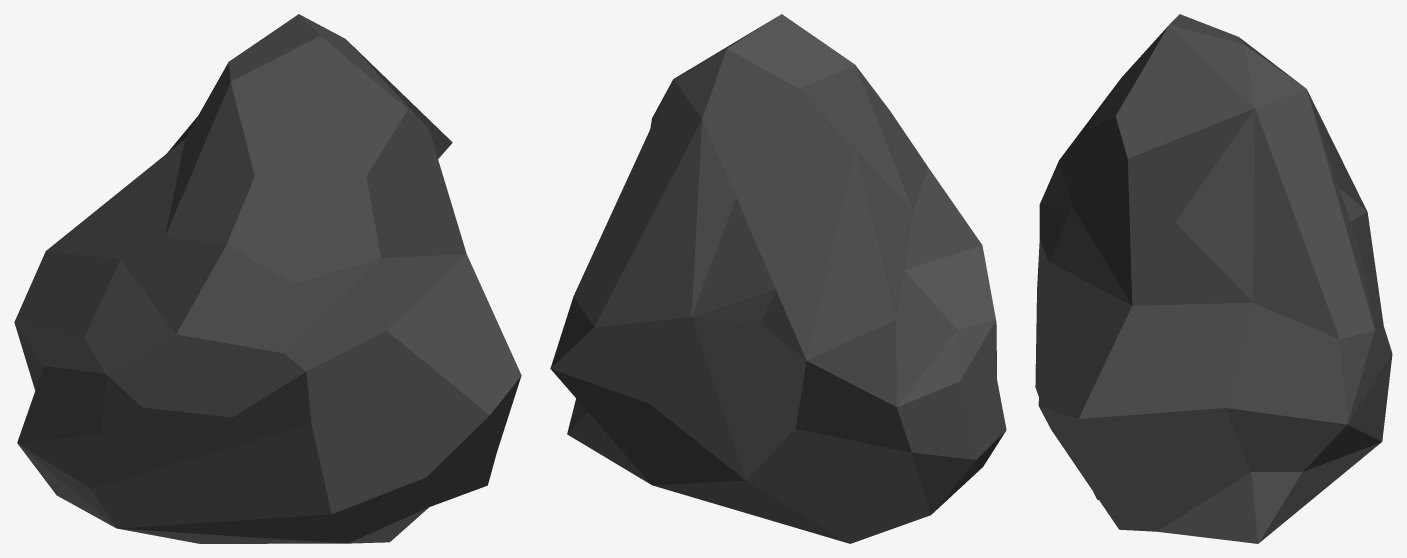
File: stone_3.fbx
3 renders of one model, left to right at view 1: azimuth 30°, elevation 25°; view 2: azimuth 150°, elevation 25°; view 3: azimuth 270°, elevation 25°, orthographic. The views are drawn at different scales.
Parts seen in each view (by area): view 1: stone_3; view 2: stone_3; view 3: stone_3.
Part boxes in pixels (box(x1,y1,x2,y2)): stone_3: box(14, 14, 521, 543); stone_3: box(550, 14, 1006, 543); stone_3: box(1035, 14, 1392, 543).
Size of the model in its own units: 145 by 155 by 108.
